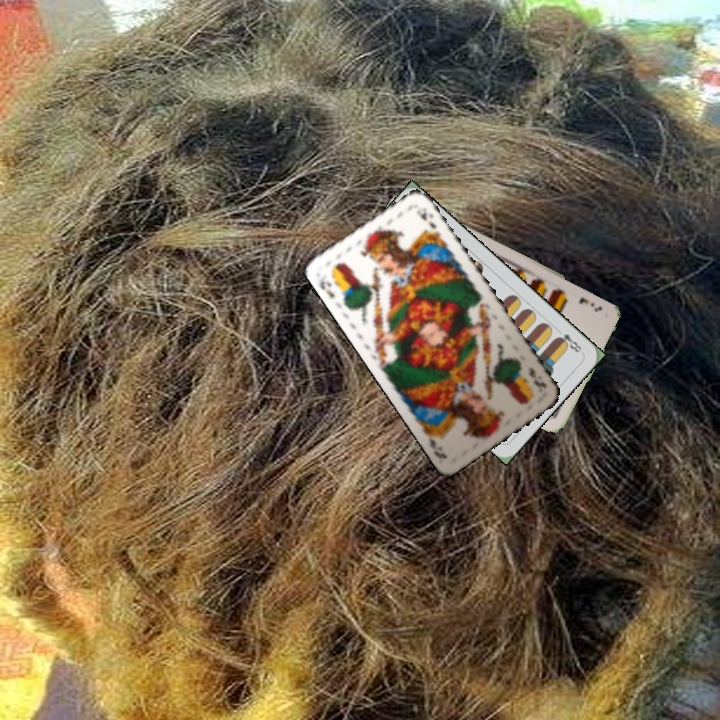E7: (575, 293, 605, 314)
E8: (552, 324, 585, 356)
EK: (524, 363, 549, 395), (315, 277, 337, 300)
